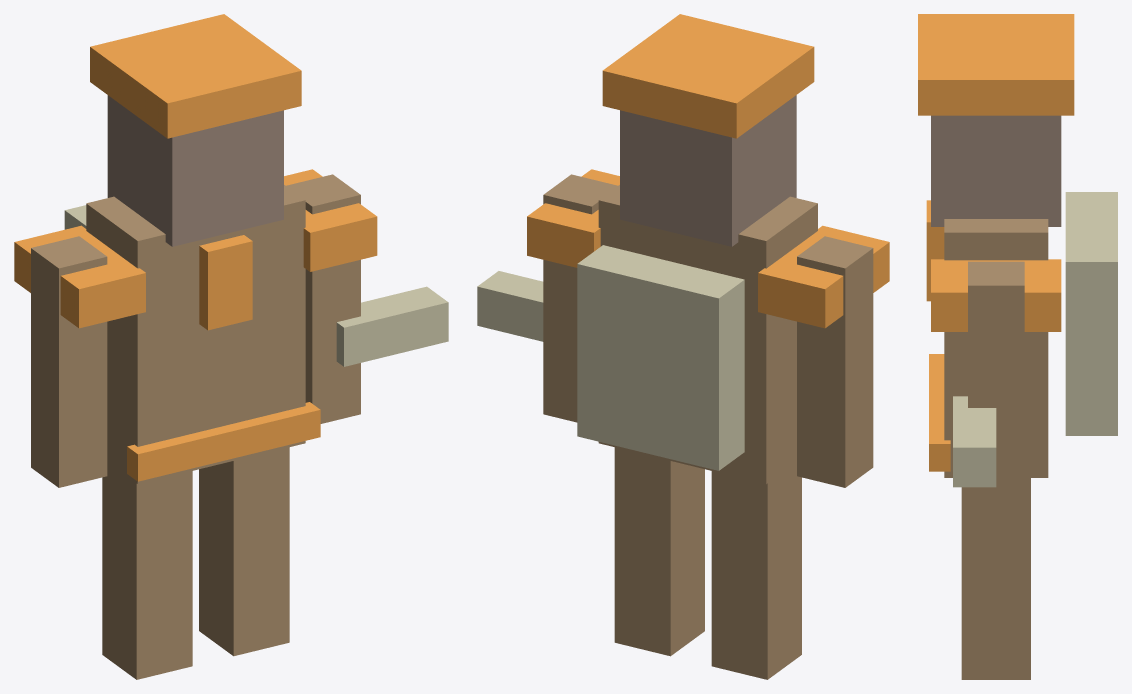
Rendered from 16_quill_gantryn_specialist_near_archive.glb.
3 views of the same model, side by side, from view 1: azimuth 30°, elevation 25°; view 2: azimuth 150°, elevation 25°; view 3: azimuth 270°, elevation 25° (orthographic).
Visible parts, largest first — view 1: Quill Gantryn, Specialist near Archive; view 2: Quill Gantryn, Specialist near Archive; view 3: Quill Gantryn, Specialist near Archive.
Part boxes in pixels (x1,y1,x2,y2): Quill Gantryn, Specialist near Archive: (14, 14, 448, 679); Quill Gantryn, Specialist near Archive: (477, 14, 889, 679); Quill Gantryn, Specialist near Archive: (918, 14, 1117, 679).
Size of the model in its own units: 1.01 by 1.49 by 0.4526.
